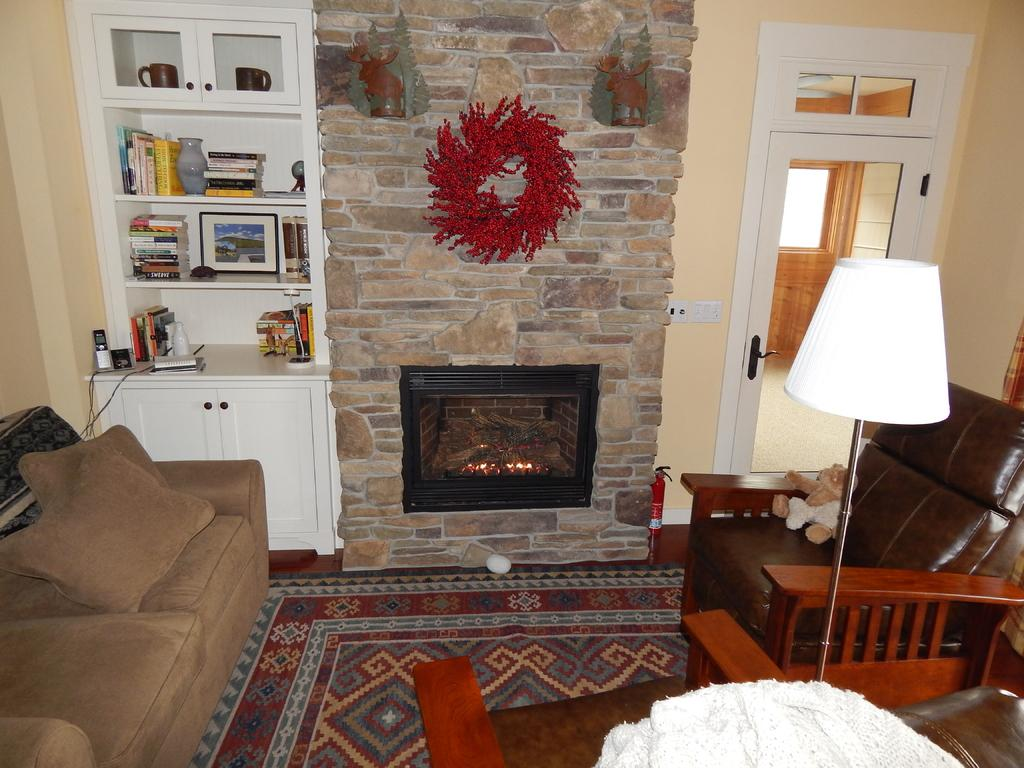Fire: (443, 448, 550, 479)
